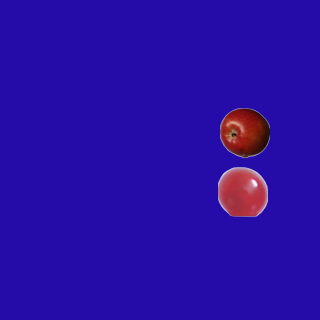Apple Braeburn: (219, 107, 269, 157)
Redcurrant: (217, 166, 267, 216)
